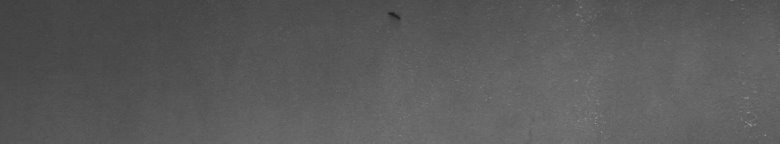fi: (384, 4, 404, 24)
